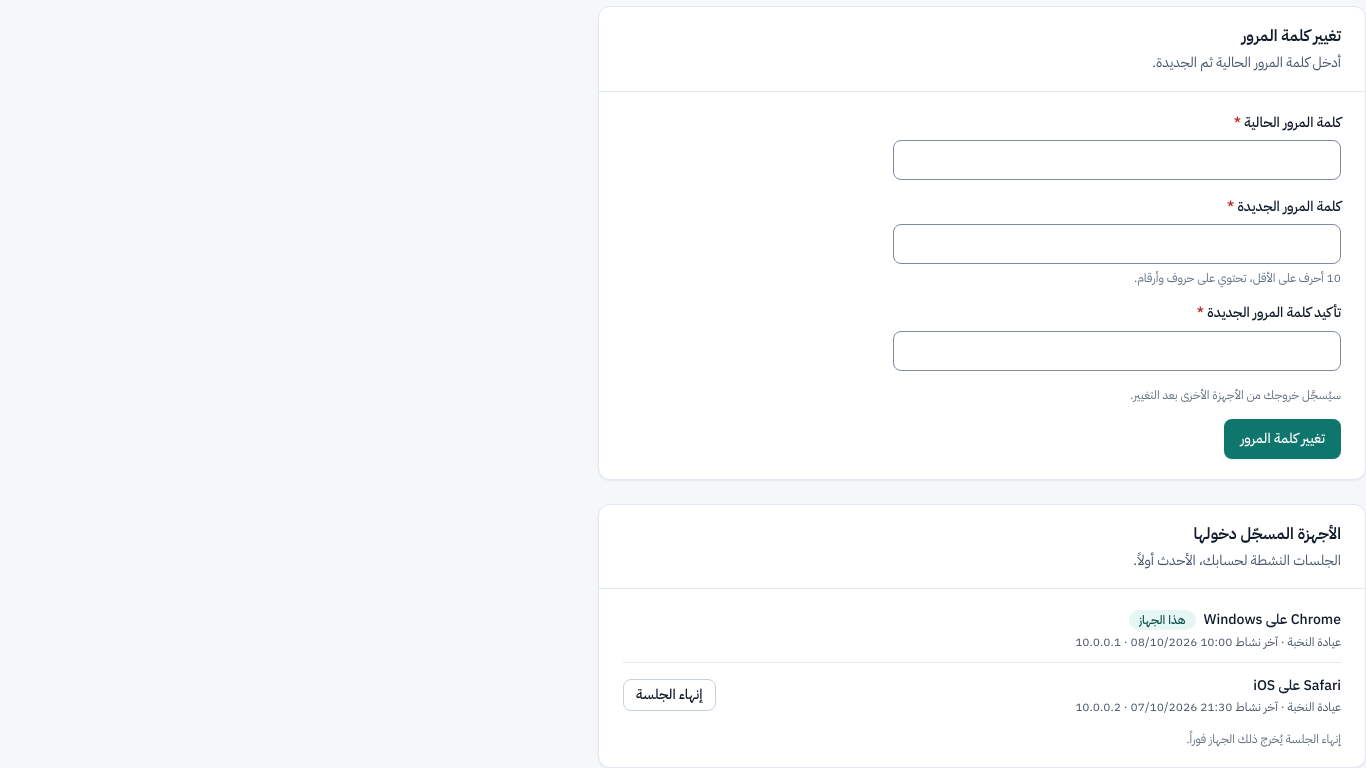
Account page — sessions › ends another session after confirmation, then reloads the list
The image size is (1366, 768).
(page scrolled)
Click the button with aria-label "إنهاء جلسة Safari على iOS" at (669, 695), box x1=623 y1=679 x2=716 y2=711
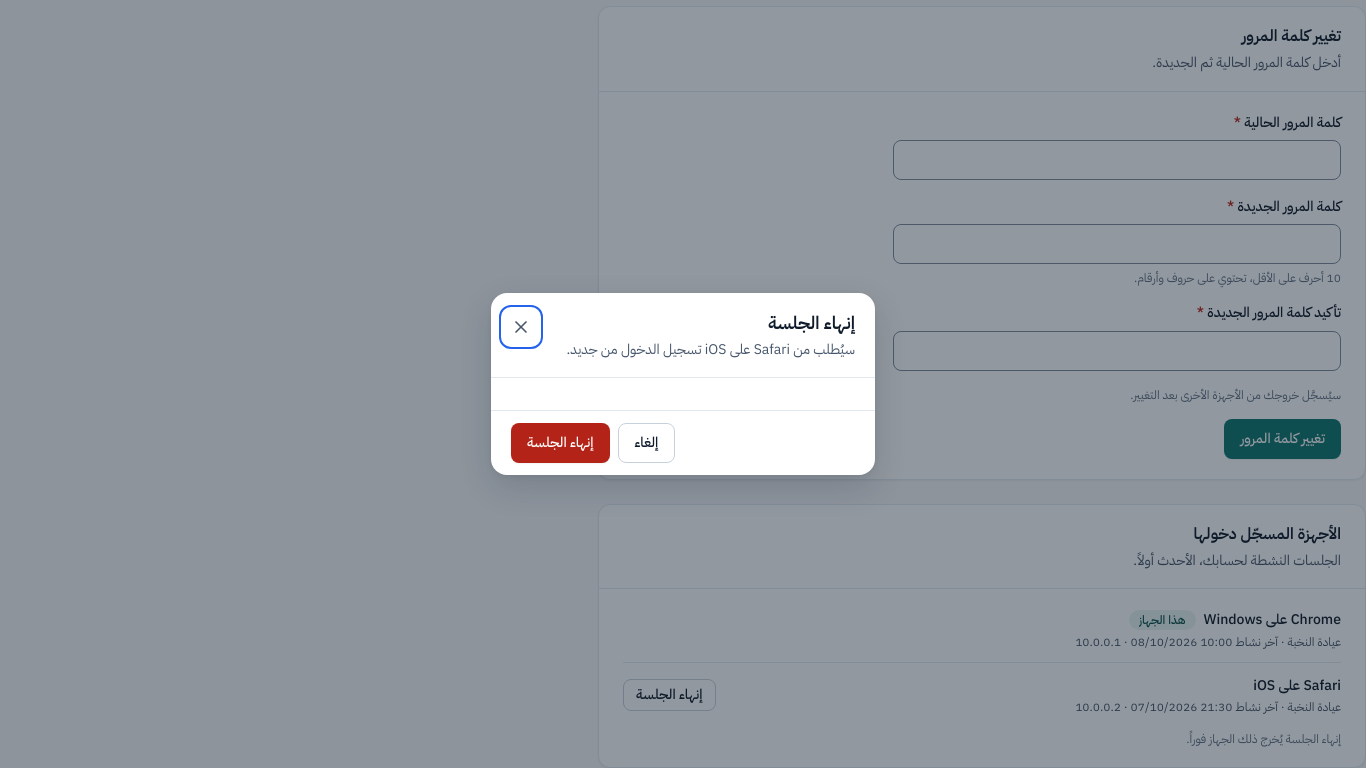
Click the button "إنهاء الجلسة" at (560, 443), box x1=511 y1=423 x2=610 y2=463
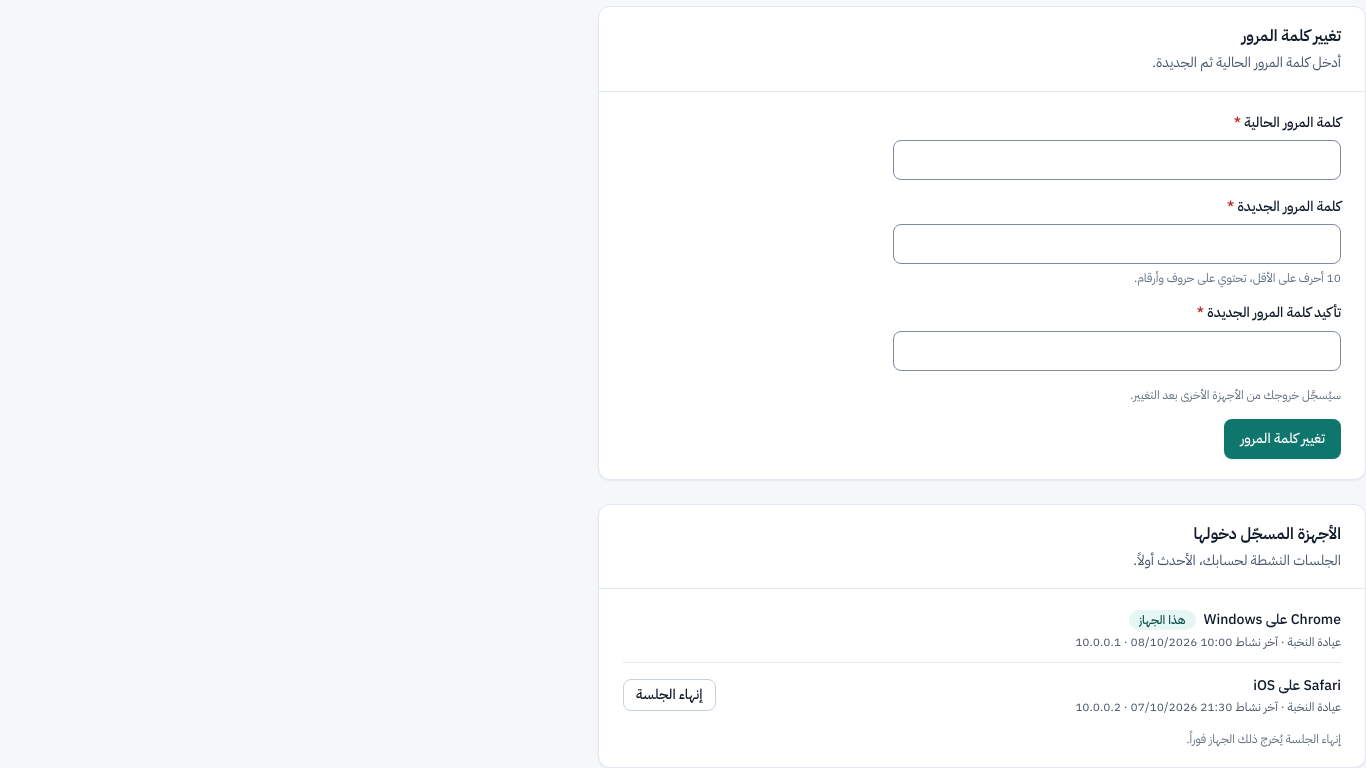
Result: the dialog is gone
